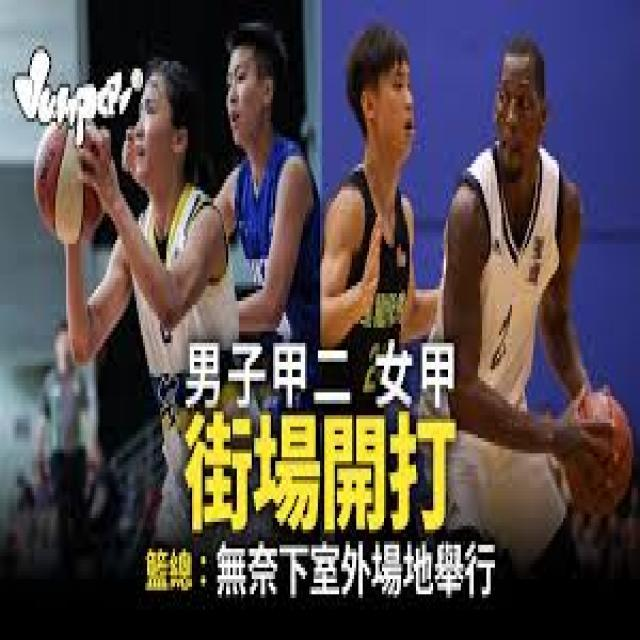rim: (563, 392, 632, 507), (39, 122, 104, 244)
